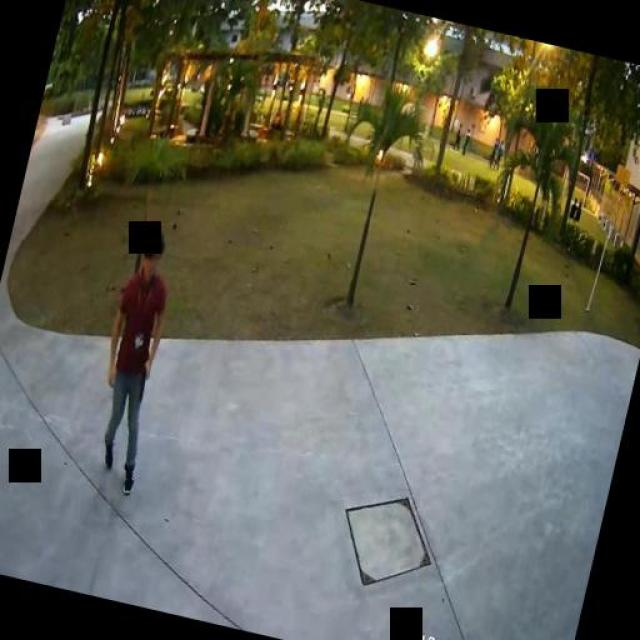gun: (132, 360, 152, 400)
